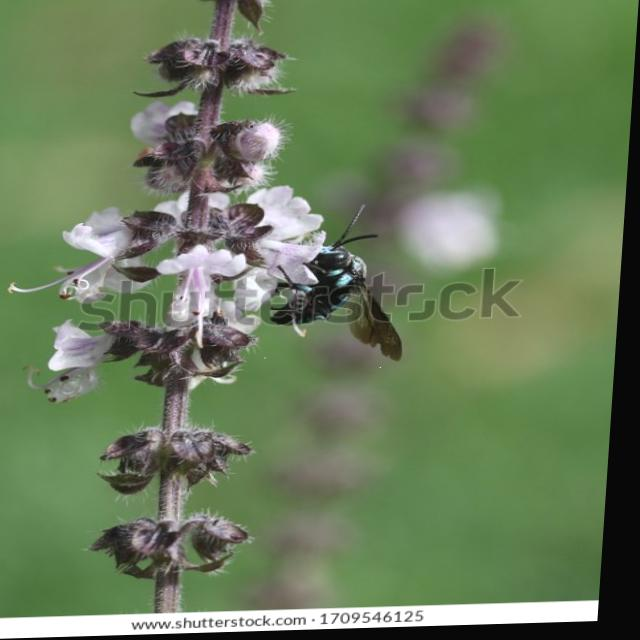Thyreus: (252, 198, 438, 375)
